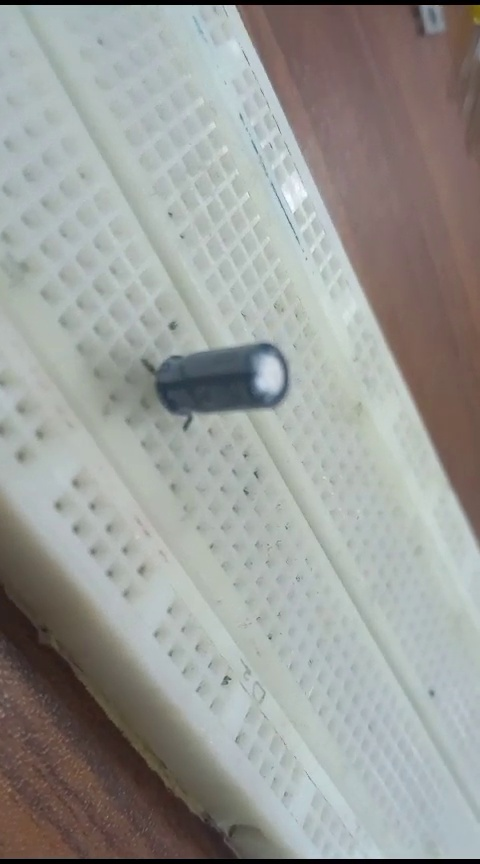capacitor: (126, 327, 314, 439)
